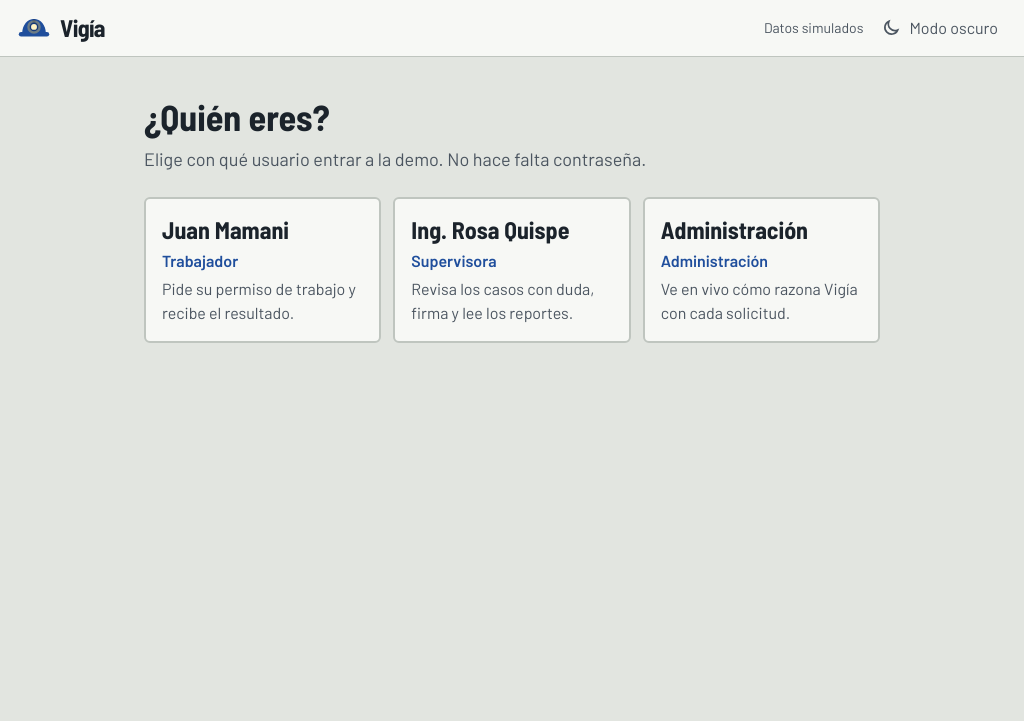
Test: ingreso por usuario › elegir un usuario entra a su vista y "Cambiar de usuario" vuelve al inicio
Click the button "Juan Mamani" at (263, 270), box top-left (144, 197), bottom-right (381, 343)
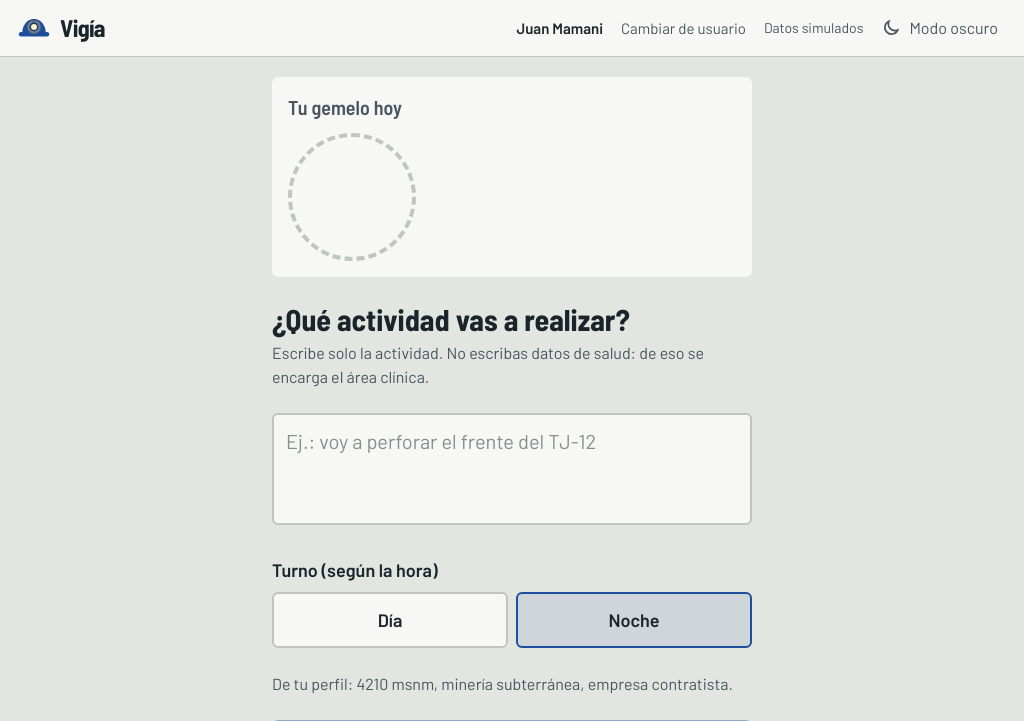
Result: the heading "Tu gemelo hoy" is shown at top-left (288, 95), bottom-right (402, 119)
Click the button "Cambiar de usuario" at (684, 28), box top-left (611, 6), bottom-right (756, 50)
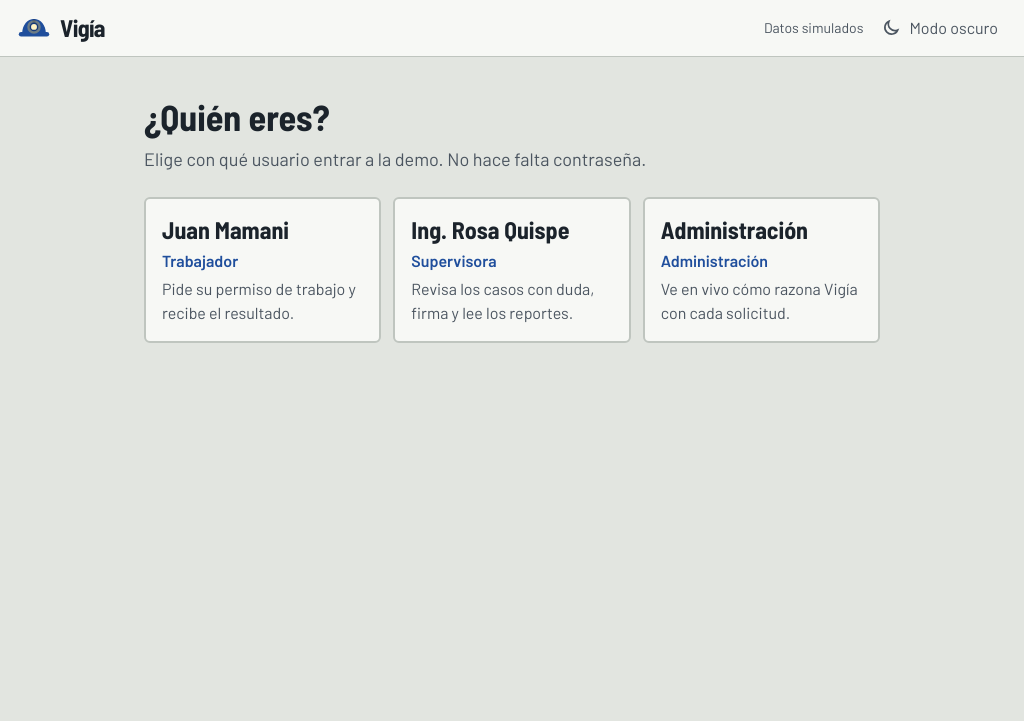
Result: the heading "¿Quién eres?" is shown at top-left (144, 95), bottom-right (330, 138)
